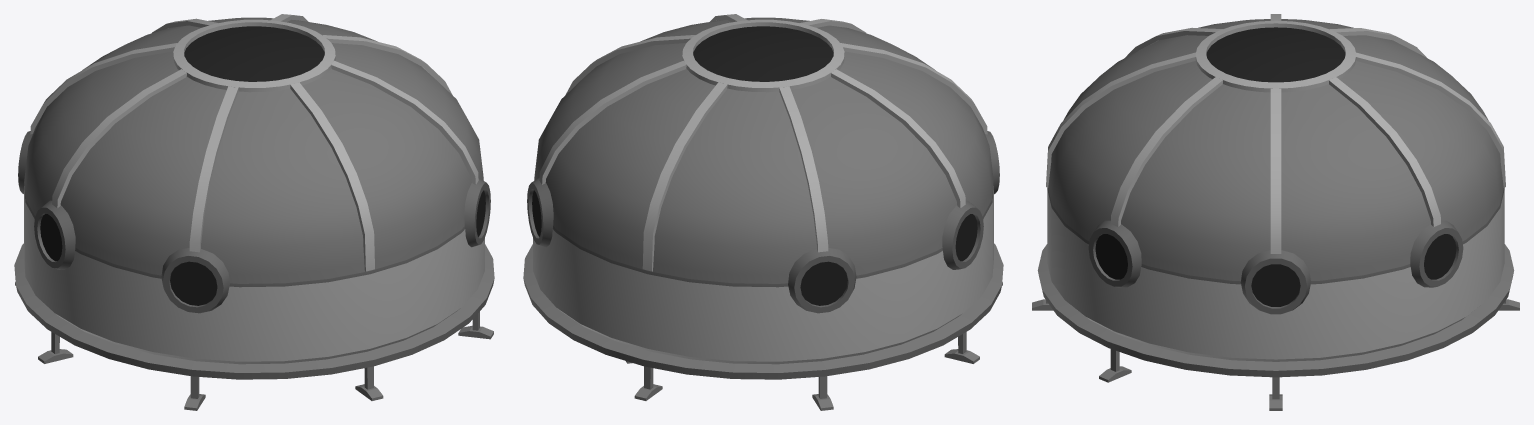
Rendered from base-large.glb.
The picture shows the model from 3 angles, left to right: view 1: azimuth 30°, elevation 25°; view 2: azimuth 150°, elevation 25°; view 3: azimuth 270°, elevation 25°; orthographic projection.
Visible parts, largest first — view 1: Base_Large; view 2: Base_Large; view 3: Base_Large.
Part boxes in pixels (left/top/right/bottom): Base_Large: left=14, top=14, right=494, bottom=410; Base_Large: left=523, top=14, right=1003, bottom=410; Base_Large: left=1032, top=14, right=1519, bottom=410.
Size of the model in its own units: 8.53 by 4.97 by 8.53.
Materials: 1 (1 with a texture image).
